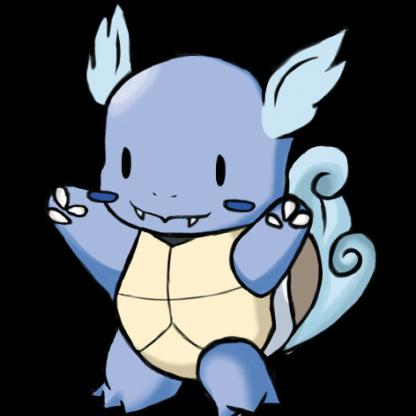Wartortle: (38, 1, 416, 416)
